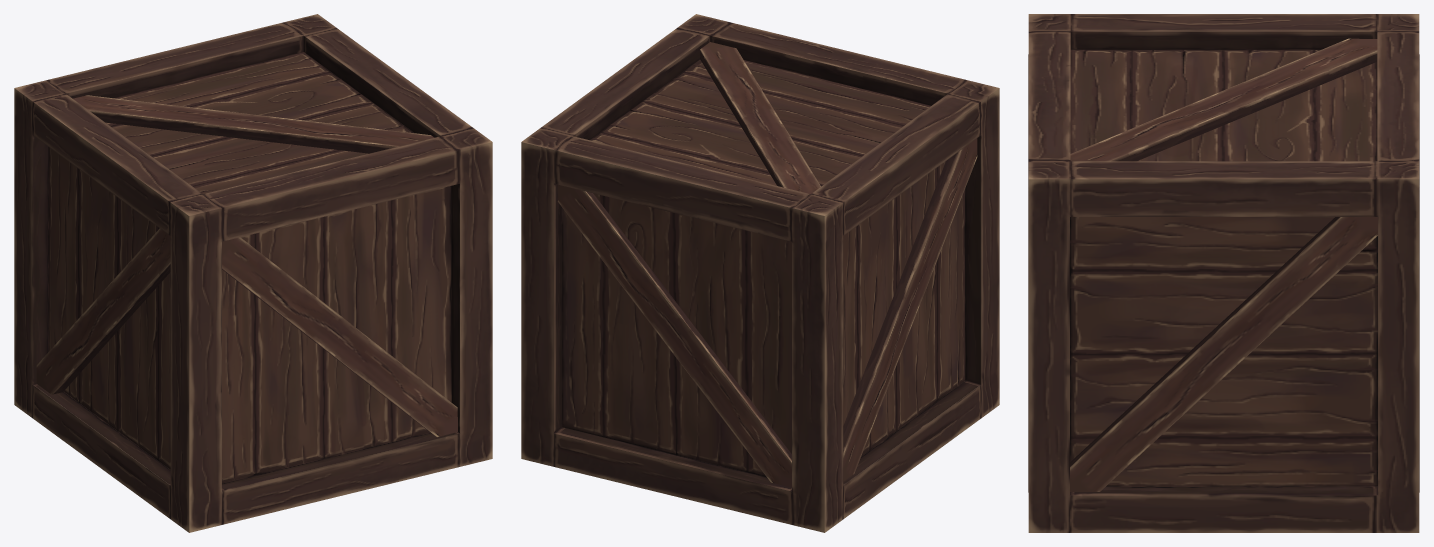
The model's file is wooden_box.obj.
The picture shows the model from 3 angles, left to right: view 1: azimuth 30°, elevation 25°; view 2: azimuth 150°, elevation 25°; view 3: azimuth 270°, elevation 25°; orthographic projection. The views are drawn at different scales.
Visible parts, largest first — view 1: wooden_box; view 2: wooden_box; view 3: wooden_box.
Part boxes in pixels (x1,y1,x2,y2): wooden_box: [14, 14, 492, 532]; wooden_box: [521, 14, 999, 532]; wooden_box: [1028, 14, 1419, 532].
Size of the model in its own units: 30 by 29.94 by 29.99.
1 material, 1 textured.
